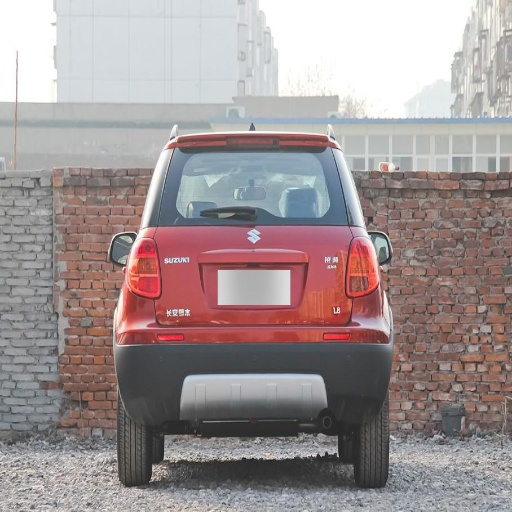back_bumper: (115, 290, 252, 422), (269, 292, 392, 420)
trunk: (131, 227, 375, 391)
